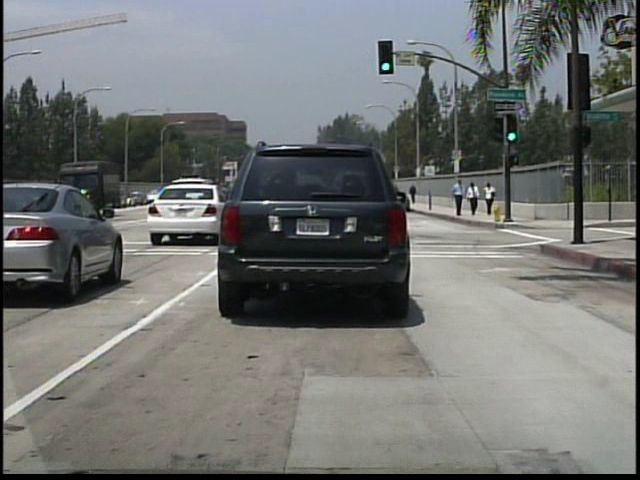person: (451, 178, 466, 219), (481, 179, 495, 215), (466, 180, 480, 216), (407, 183, 417, 206)
